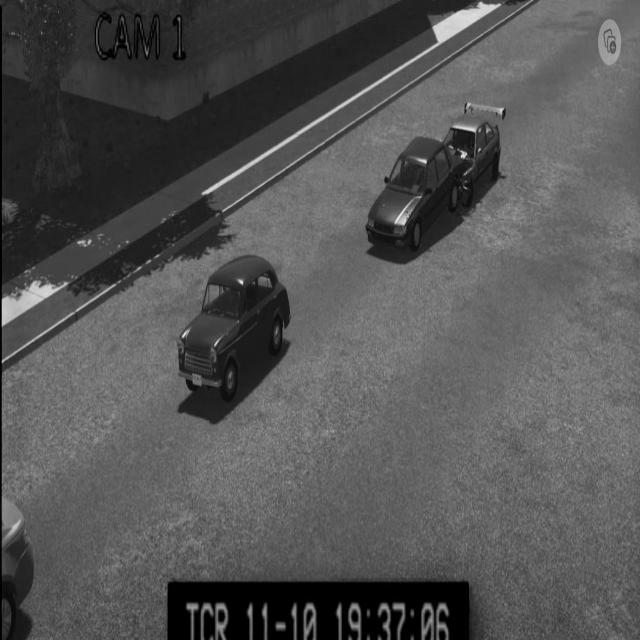accident: (361, 101, 505, 258)
vehicle: (177, 251, 292, 409), (1, 485, 37, 639)
